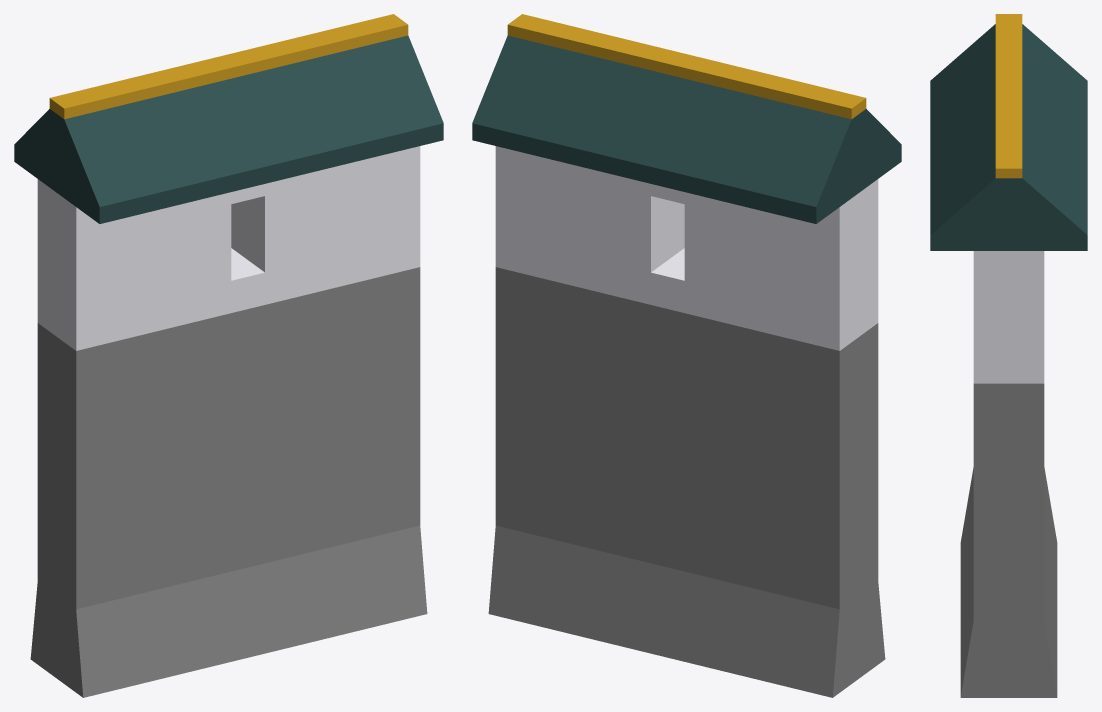
File: Asian_Prop_Building_Fence_Wall_High_Small_Embrasure_03.FBX
3 renders of one model, left to right at view 1: azimuth 30°, elevation 25°; view 2: azimuth 150°, elevation 25°; view 3: azimuth 270°, elevation 25°, orthographic. The views are drawn at different scales.
Visible parts, largest first — view 1: Asian_Prop_Building_Fence_Wall_High_Small_Embrasure_03; view 2: Asian_Prop_Building_Fence_Wall_High_Small_Embrasure_03; view 3: Asian_Prop_Building_Fence_Wall_High_Small_Embrasure_03.
Part boxes in pixels (left/top/right/bottom): Asian_Prop_Building_Fence_Wall_High_Small_Embrasure_03: left=14, top=14, right=443, bottom=697; Asian_Prop_Building_Fence_Wall_High_Small_Embrasure_03: left=472, top=14, right=901, bottom=697; Asian_Prop_Building_Fence_Wall_High_Small_Embrasure_03: left=930, top=14, right=1087, bottom=697.
Size of the model in its own units: 2584 by 4128 by 1112.
